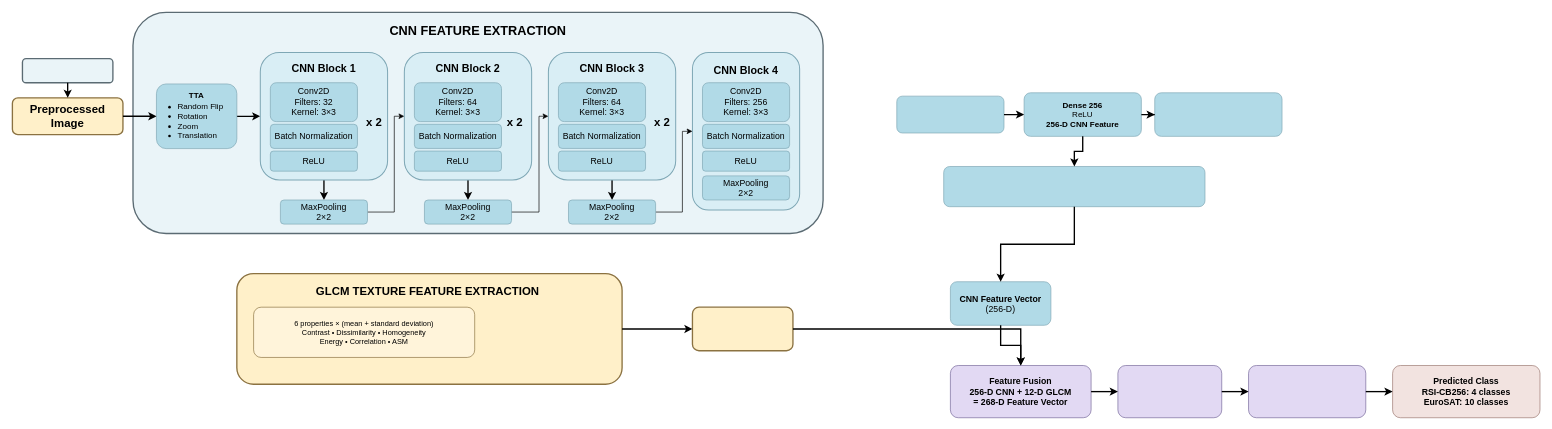
Some shapes in this 1552 by 429 pixel diagram are drawn without their labels. Here are the shapes that lost their labels. From the top down, the centre of each, then its label:
At point 67,70: "Input Image".
At point 950,114: "Global Average Pooling".
At point 1218,114: "Training classifier head Dropout → Dense 128 → Softmax not used for SVM feature".
At point 1074,186: "TTA-4 Original • H-Flip • V-Flip • H+V Flip Average 4 × 256-D features".
At point 742,328: "GLCM Feature Vector (12-D)".
At point 1169,391: "StandardScaler".
At point 1307,391: "RBF-SVM C = 0.5, γ = 0.02".
